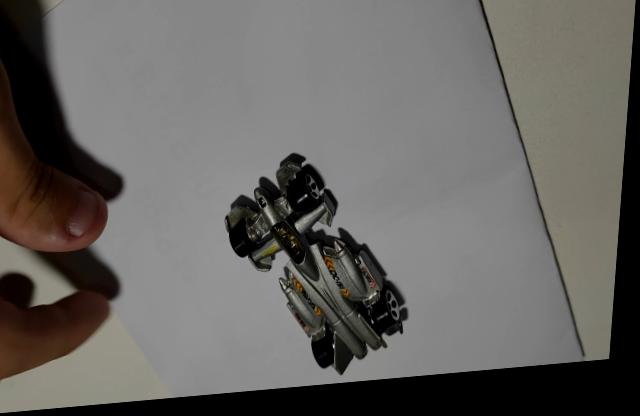05_DC121: (229, 157, 415, 380)
